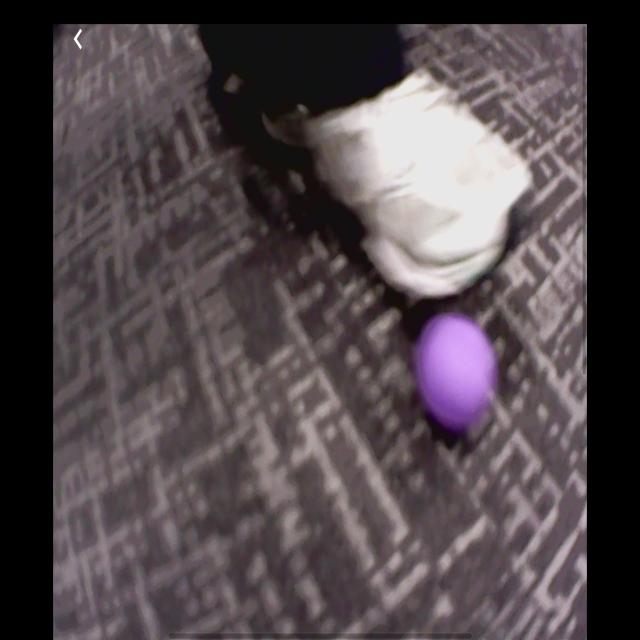ball: (421, 319, 496, 428)
